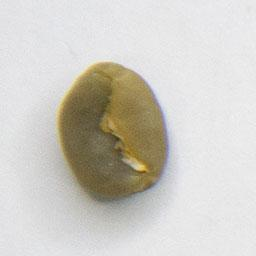premium: (55, 59, 171, 201)
